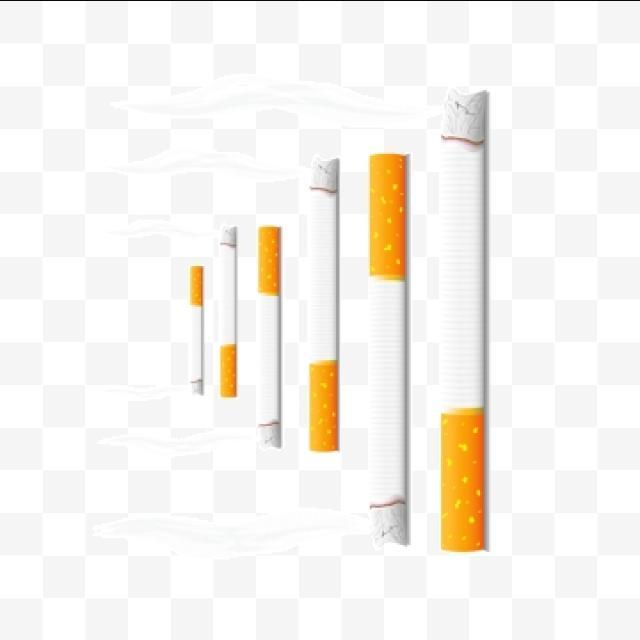cigarette: (428, 84, 496, 556), (361, 138, 408, 558), (176, 252, 210, 408)
